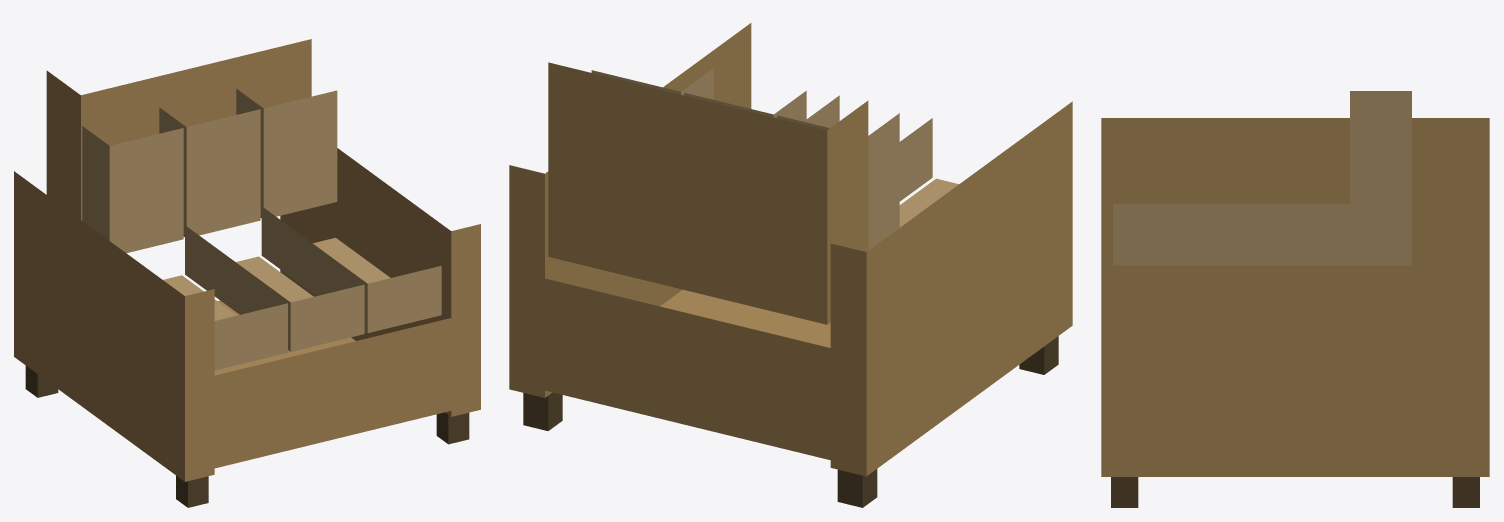
Rendered from Sofa-oak.glb.
3 renders of one model, left to right at view 1: azimuth 30°, elevation 25°; view 2: azimuth 150°, elevation 25°; view 3: azimuth 270°, elevation 25°, orthographic. The views are drawn at different scales.
Visible parts, largest first — view 1: Sofa; view 2: Sofa; view 3: Sofa.
Boxes of the visible parts, x1,y1,x2,y2 form: Sofa: [14, 39, 480, 507]; Sofa: [509, 23, 1072, 507]; Sofa: [1101, 91, 1489, 507].
Size of the model in its own units: 1 by 1 by 1.
